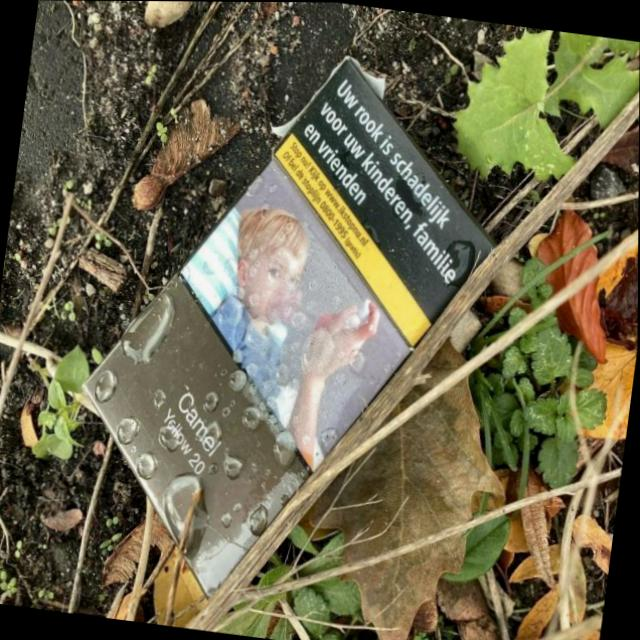Paper: (47, 16, 521, 634)
